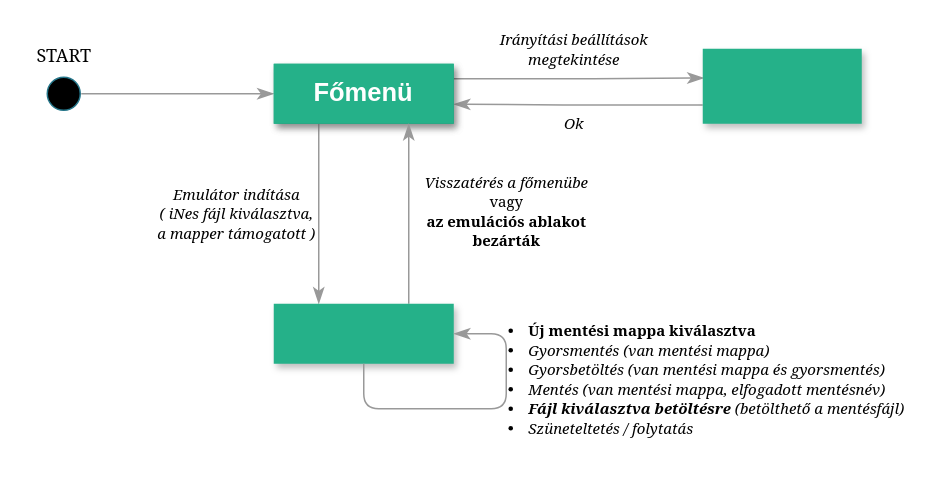
Some shapes in this 936 by 479 pixel diagram are drawn without their labels. Here are the shapes that lost their labels. From the top down, the centre of each, then its label:
At point 783,88: "Irányítási beállítások".
At point 364,335: "Emuláció".
